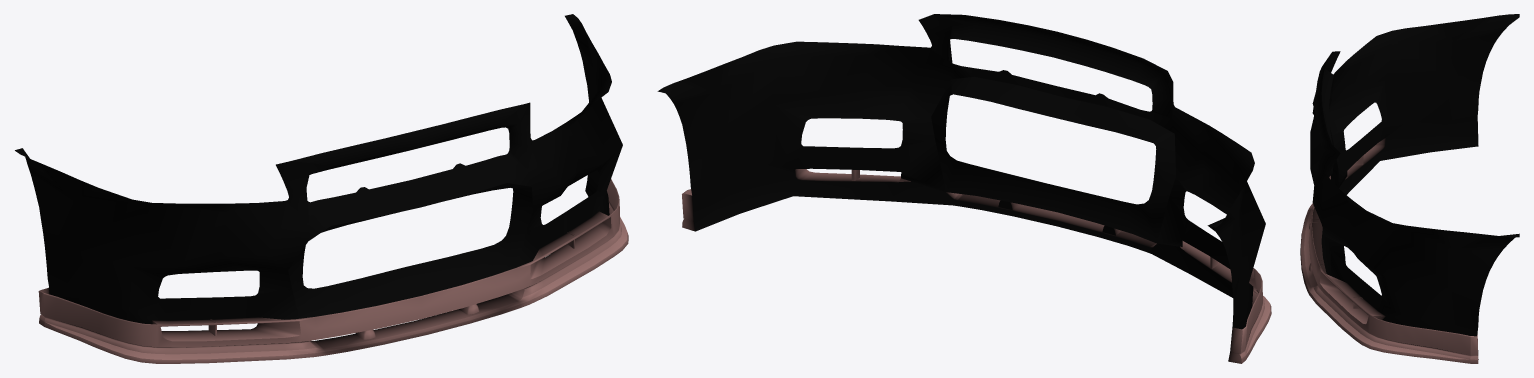
File: R34_FB01_Trim.fbx
The picture shows the model from 3 angles, left to right: view 1: azimuth 30°, elevation 25°; view 2: azimuth 150°, elevation 25°; view 3: azimuth 270°, elevation 25°; orthographic projection. The views are drawn at different scales.
Parts seen in each view (by area): view 1: R34_FB01_Trim; view 2: R34_FB01_Trim; view 3: R34_FB01_Trim.
Boxes of the visible parts, left/top/right/bottom form: R34_FB01_Trim: left=15, top=14, right=628, bottom=363; R34_FB01_Trim: left=657, top=14, right=1271, bottom=363; R34_FB01_Trim: left=1300, top=14, right=1519, bottom=363.
Bounding box in the file's own units: 176 × 58.56 × 73.01.
